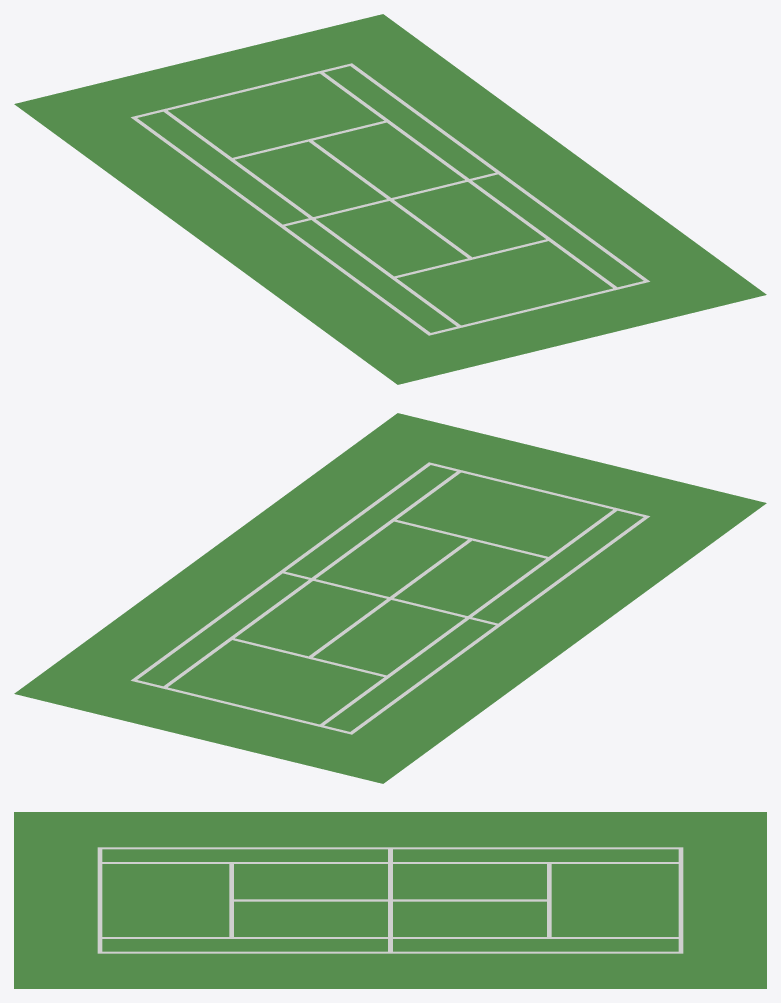
Rendered from M_TennisCourt01.fbx.
3 views of the same model, one above another, from view 1: azimuth 30°, elevation 25°; view 2: azimuth 150°, elevation 25°; view 3: azimuth 270°, elevation 25° (orthographic).
Parts seen in each view (by area): view 1: M_TennisCourt01; view 2: M_TennisCourt01; view 3: M_TennisCourt01.
Boxes of the visible parts, bbox=[...] form: M_TennisCourt01: bbox=[14, 14, 766, 384]; M_TennisCourt01: bbox=[14, 413, 766, 783]; M_TennisCourt01: bbox=[14, 812, 766, 988].
Size of the model in its own units: 1750 by 3150 by 5.67e-21.
